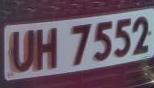2: (131, 12, 154, 60)
5: (113, 15, 135, 63), (92, 18, 113, 63)
7: (69, 21, 93, 67)
H: (35, 25, 61, 71)
U: (9, 27, 36, 74)
